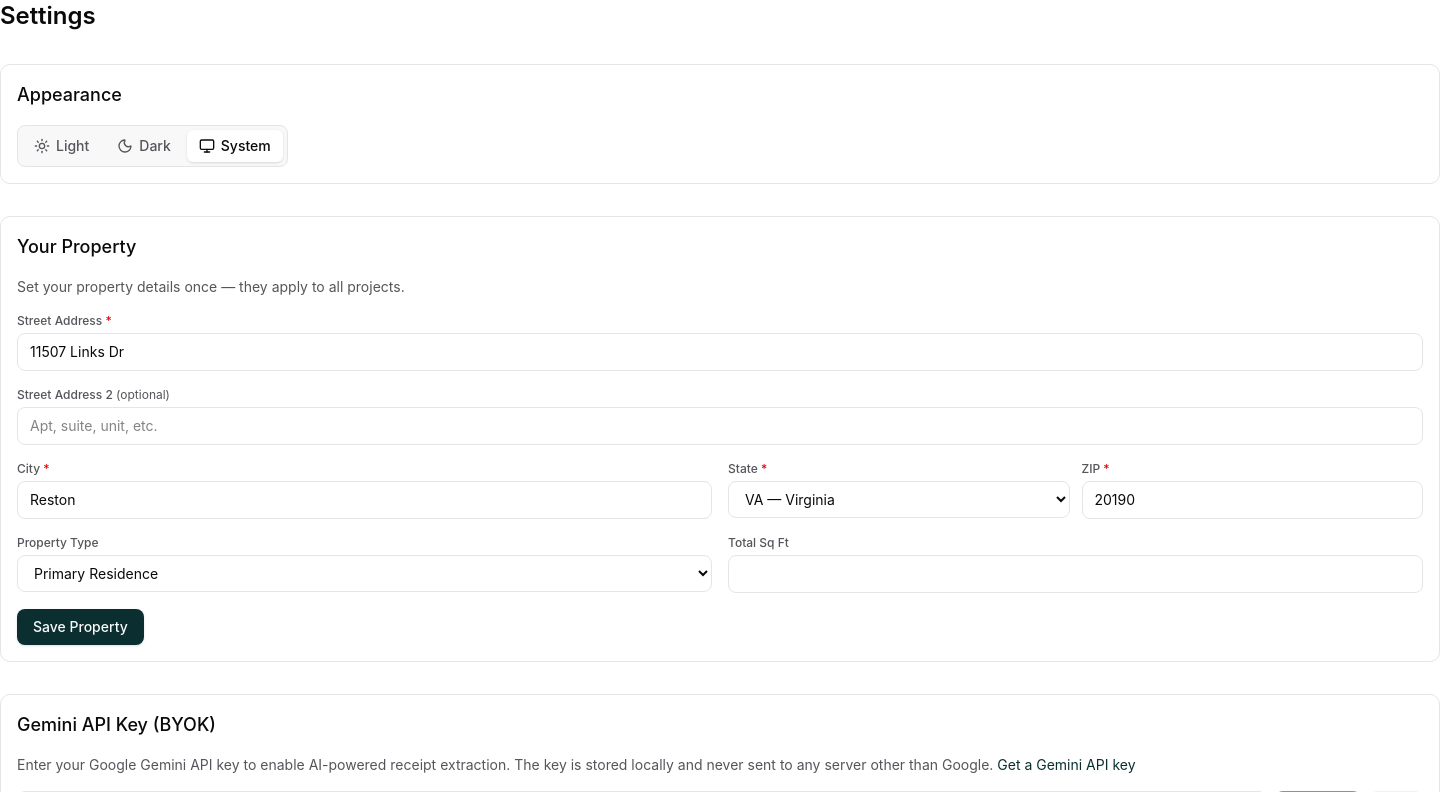
Test case: SettingsPage — property form › shows validation error if required fields are empty
Clear the field with id "address" at coordinates (720, 352), box [17, 333, 1423, 371]
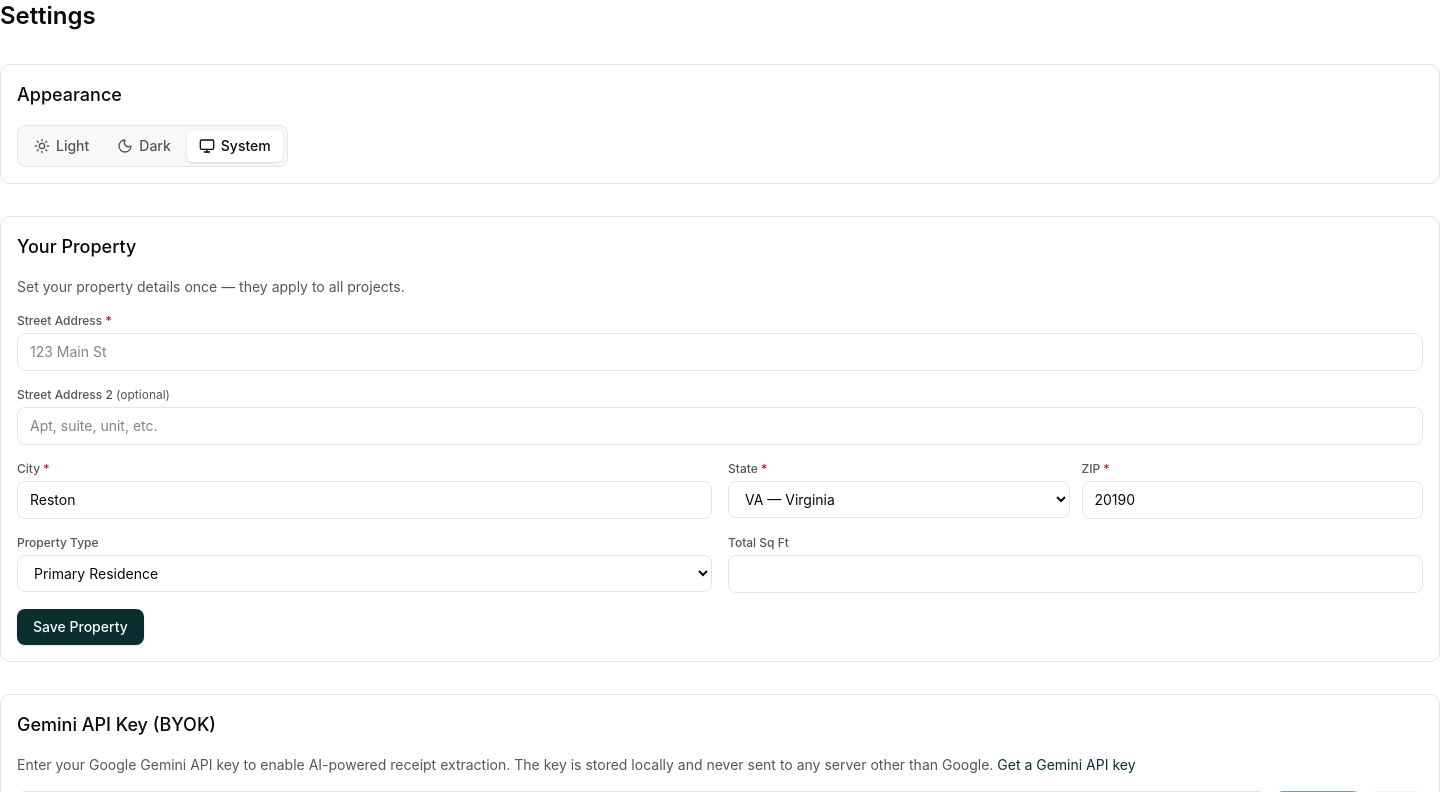
Clear the field with id "city" at coordinates (364, 500), box [17, 481, 712, 519]
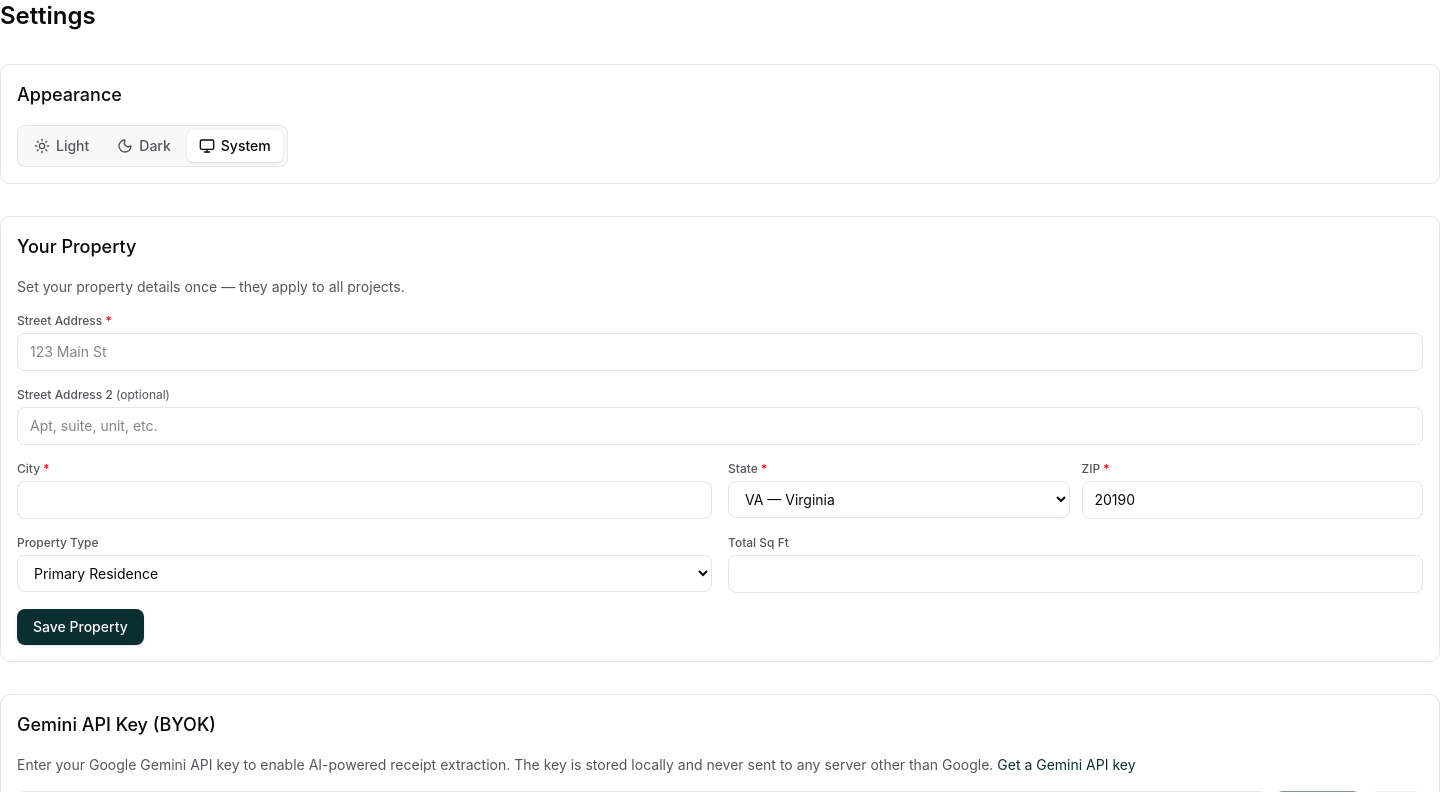
Submit the form with id "address", box [0, 216, 1439, 662]
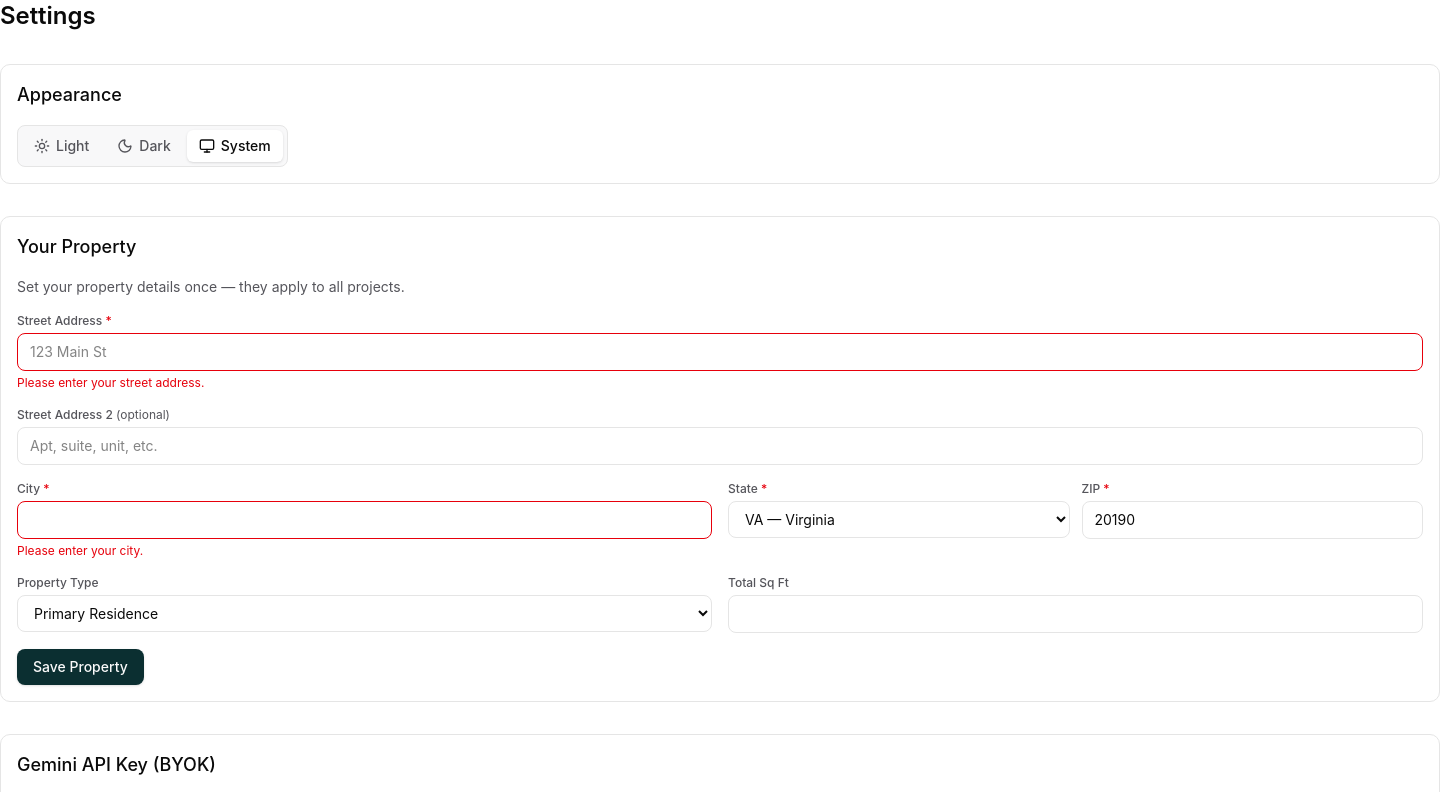
Now the text "Please enter your street address." is shown, box [17, 375, 204, 390]
Now the text "Please enter your city." is shown, box [17, 543, 143, 558]
